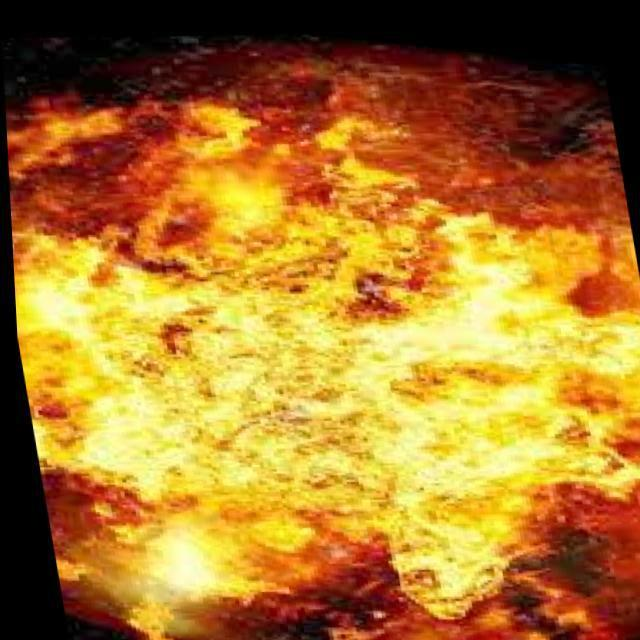fire: (2, 39, 640, 640)
